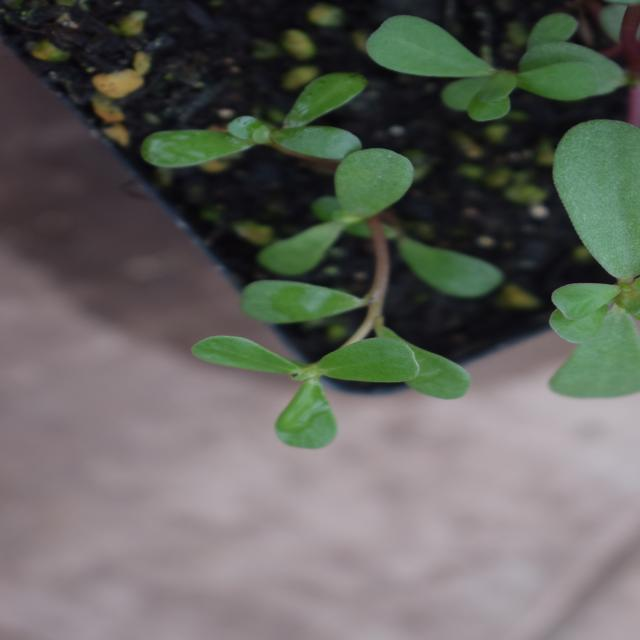purslane: (134, 128, 466, 460), (11, 36, 159, 272)
